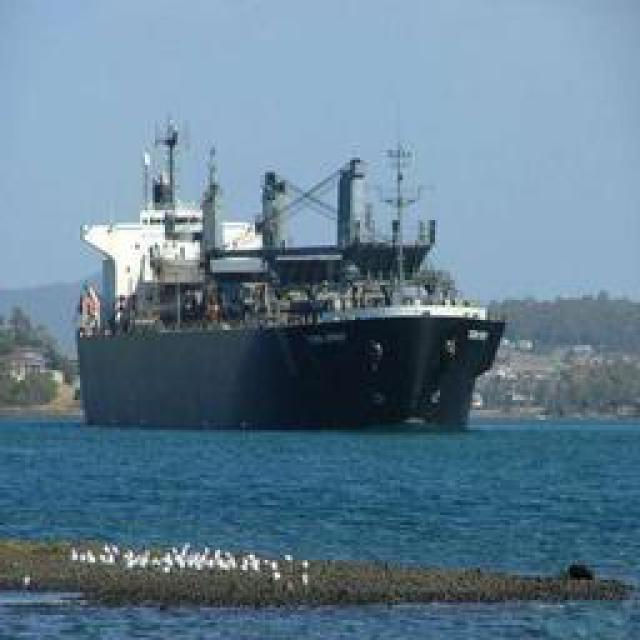Ship: (78, 81, 503, 434)
